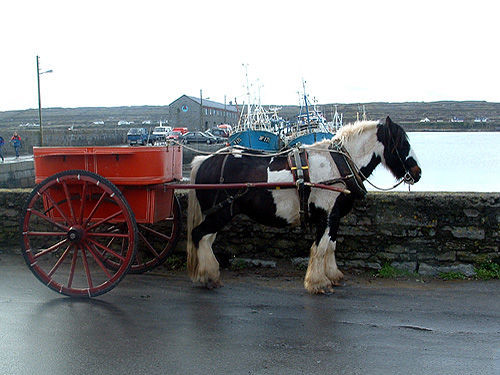horse: (185, 114, 422, 295)
